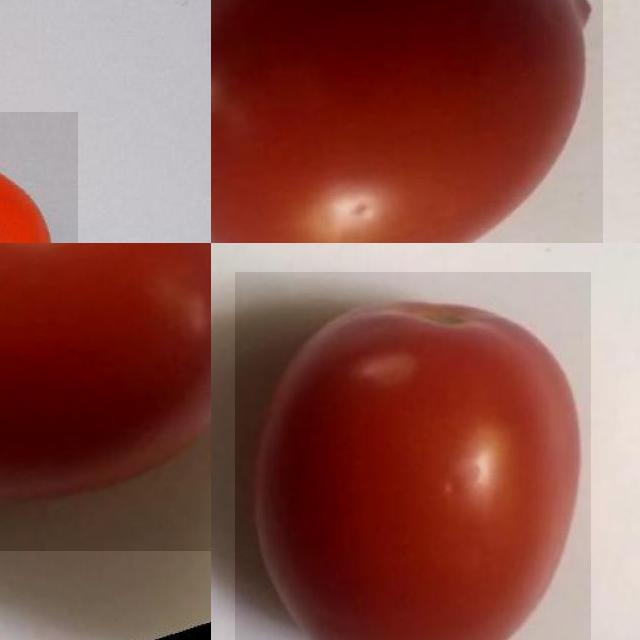Fresh Tomato: (235, 272, 590, 640), (211, 0, 603, 243), (0, 243, 211, 551)
